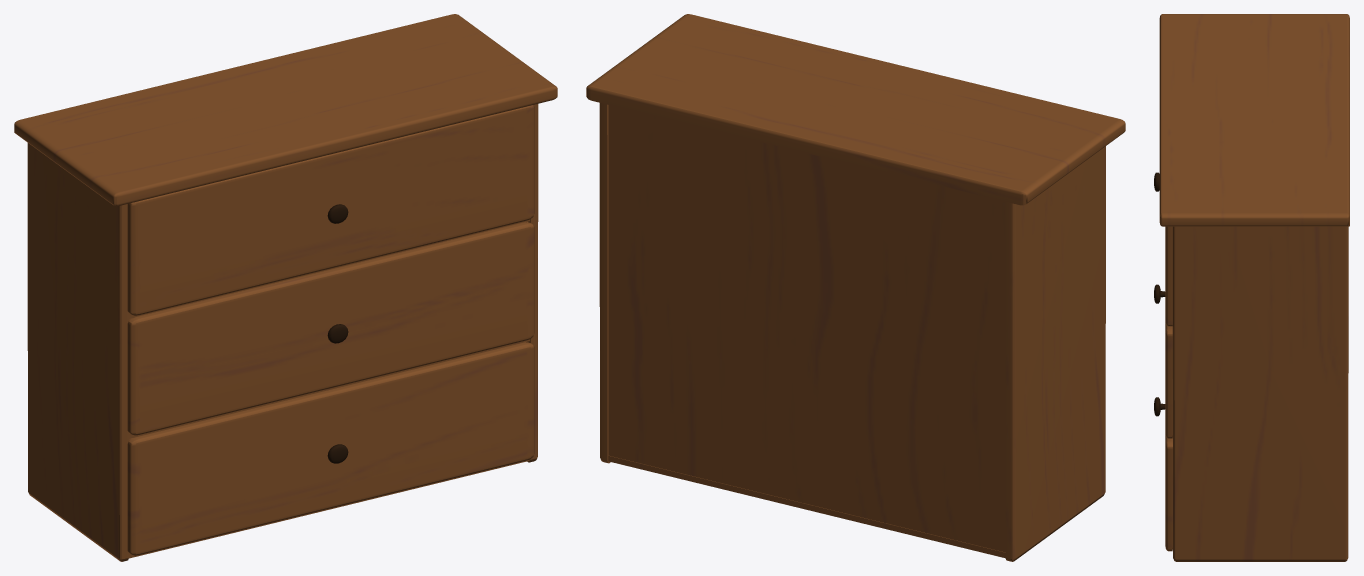
The model's file is TVKast.fbx.
The picture shows the model from 3 angles, left to right: view 1: azimuth 30°, elevation 25°; view 2: azimuth 150°, elevation 25°; view 3: azimuth 270°, elevation 25°; orthographic projection. The views are drawn at different scales.
Visible parts, largest first — view 1: KastBody, La3, La2, La1; view 2: KastBody; view 3: KastBody, La3, La2, La1.
Part boxes in pixels (left/top/right/bottom): KastBody: left=14, top=14, right=557, bottom=561; La3: left=127, top=342, right=534, bottom=555; La2: left=127, top=222, right=534, bottom=435; La1: left=127, top=105, right=534, bottom=315; KastBody: left=586, top=14, right=1125, bottom=561; KastBody: left=1159, top=14, right=1349, bottom=561; La3: left=1154, top=397, right=1172, bottom=551; La2: left=1154, top=284, right=1172, bottom=438; La1: left=1154, top=172, right=1172, bottom=326.
Size of the model in its own units: 114 by 92.81 by 46.58.
Materials: 1 (1 with a texture image).
